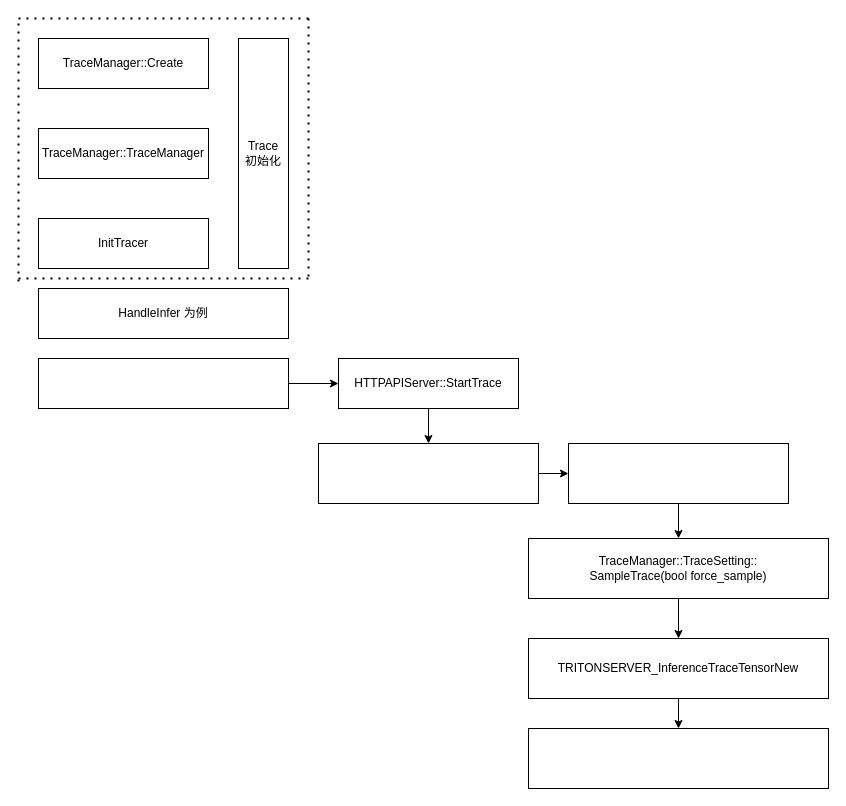
Some shapes in this 846 by 806 pixel diagram are drawn without their labels. The shapes that lost their labels are listed below. From the top down, each one's box as (x1, y1, x2, y2) in pixels, then its label:
(38, 358, 288, 408): trace = StartTrace(req, model_name, &triton_trace)
(318, 442, 538, 504): HTTPAPIServer::GetTraceStartOptions
(568, 442, 788, 504): TraceManager::SampleTrace(const TraceStartOptions& start_options)
(528, 728, 828, 788): infer_trace.h/ class InferenceTrace
